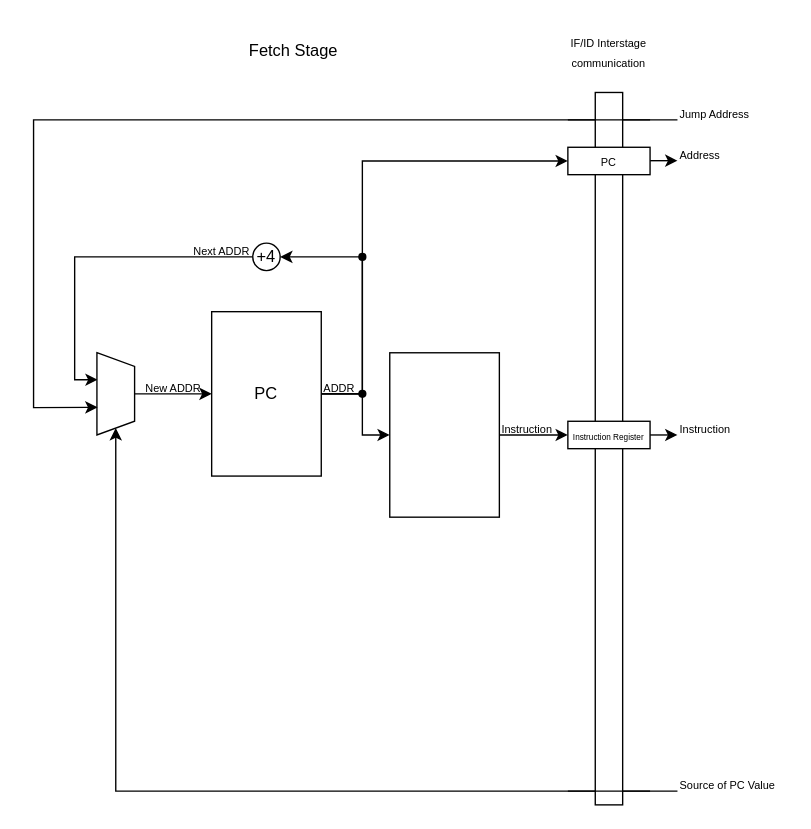
Some shapes in this 811 by 829 pixel diagram are drawn without their labels. Here are the shapes that lost their labels. From the top down, the centre of each, then its label:
(x=115, y=393): ADDR Sel
(x=443, y=434): Instruction Memory
